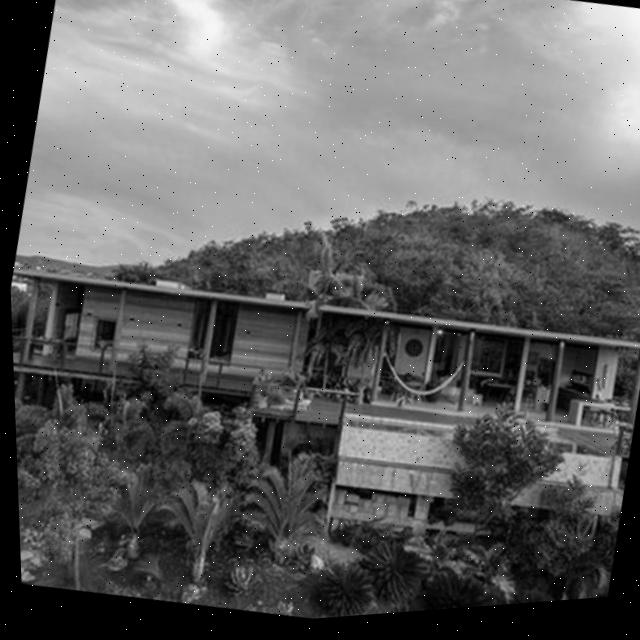building: (10, 219, 640, 504)
